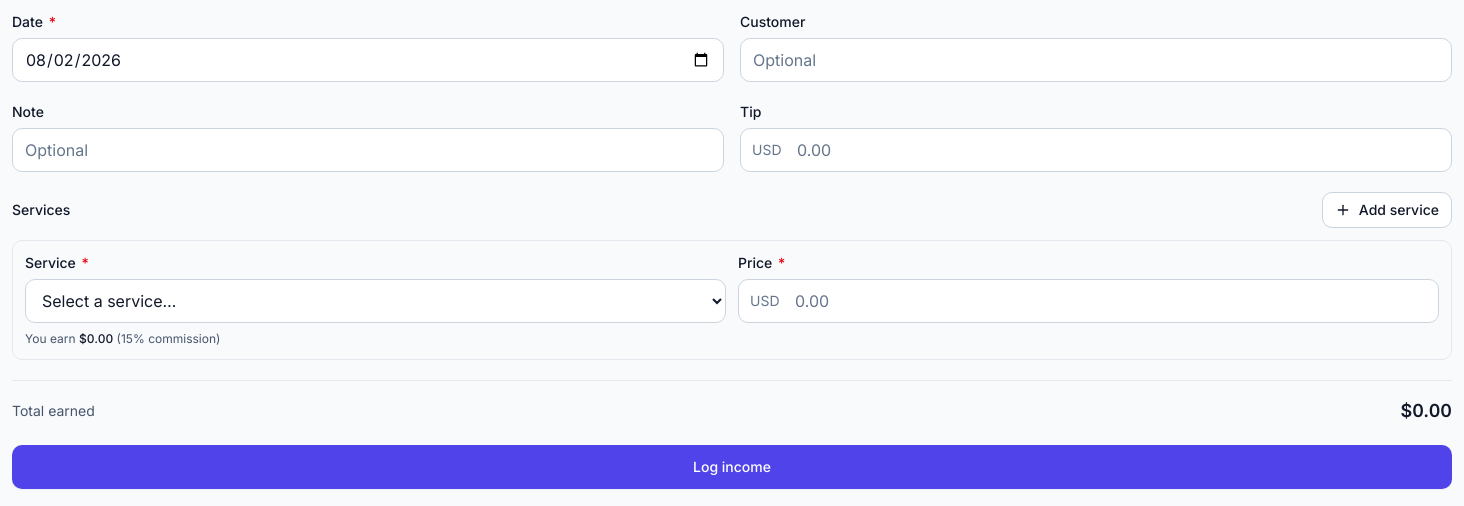
EntryForm › adds the tip on top of earnings in the total (no commission on tips)
The width and height of the screenshot is (1464, 506).
Select "Haircut" in the dropdown labelled "Service *" at {"x": 376, "y": 301}, box [25,279,726,323]
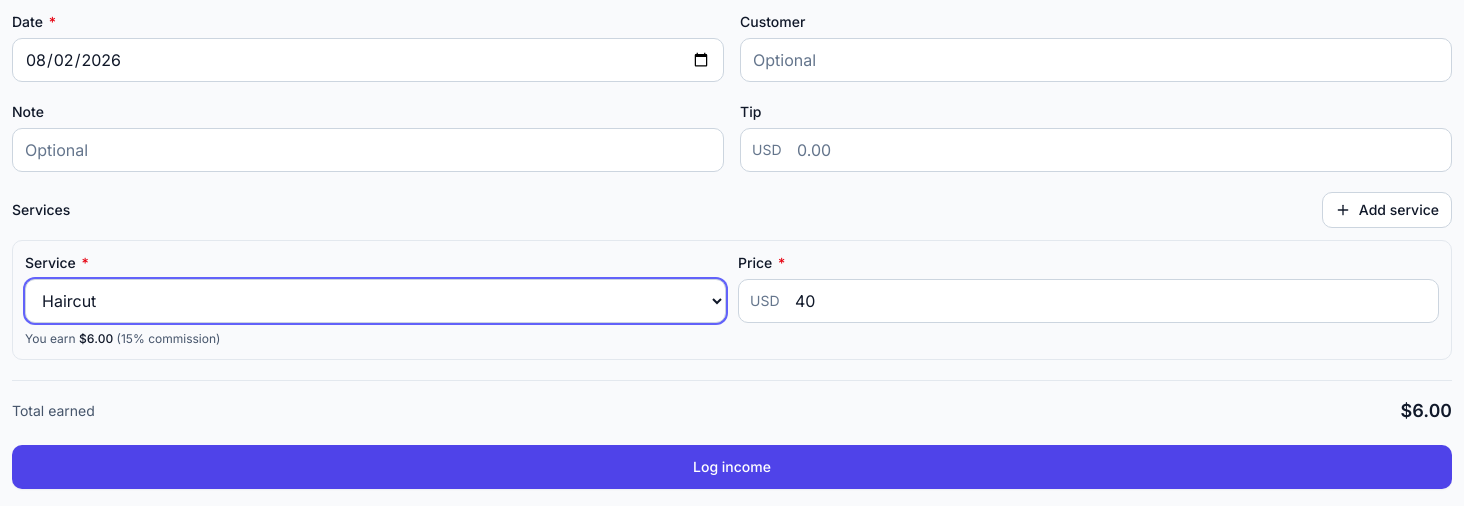
Type "4" into the number field labelled "Tip" at {"x": 1096, "y": 150}, box [740,128,1452,172]
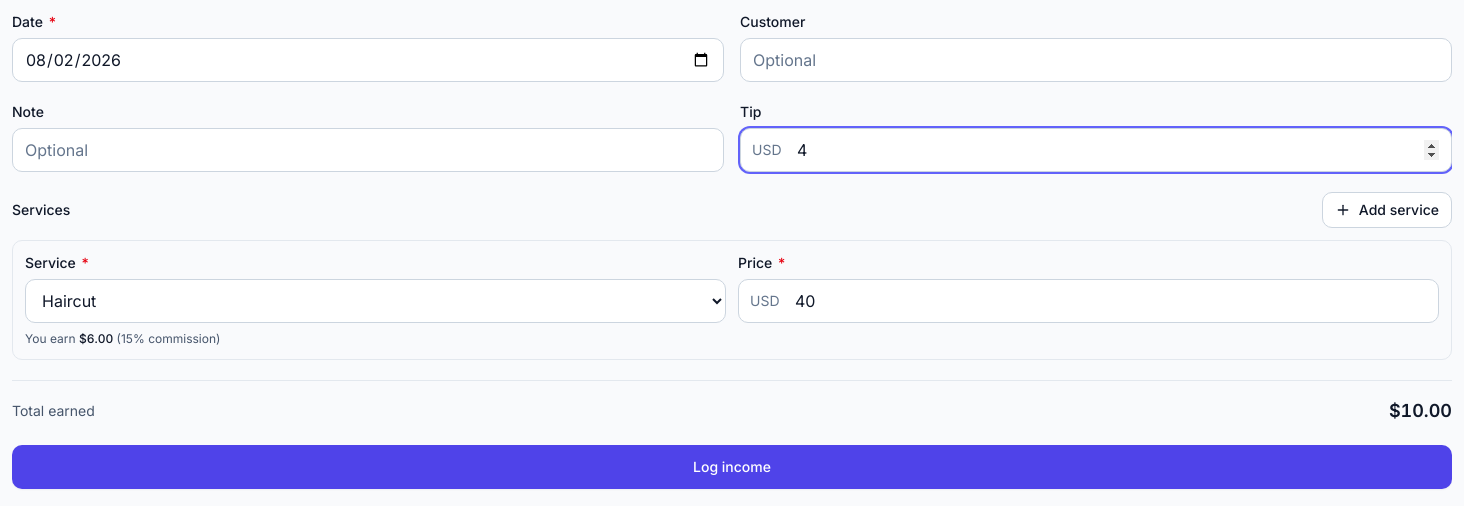
Now the text "$10.00" is shown, box [1389,397,1452,425]
